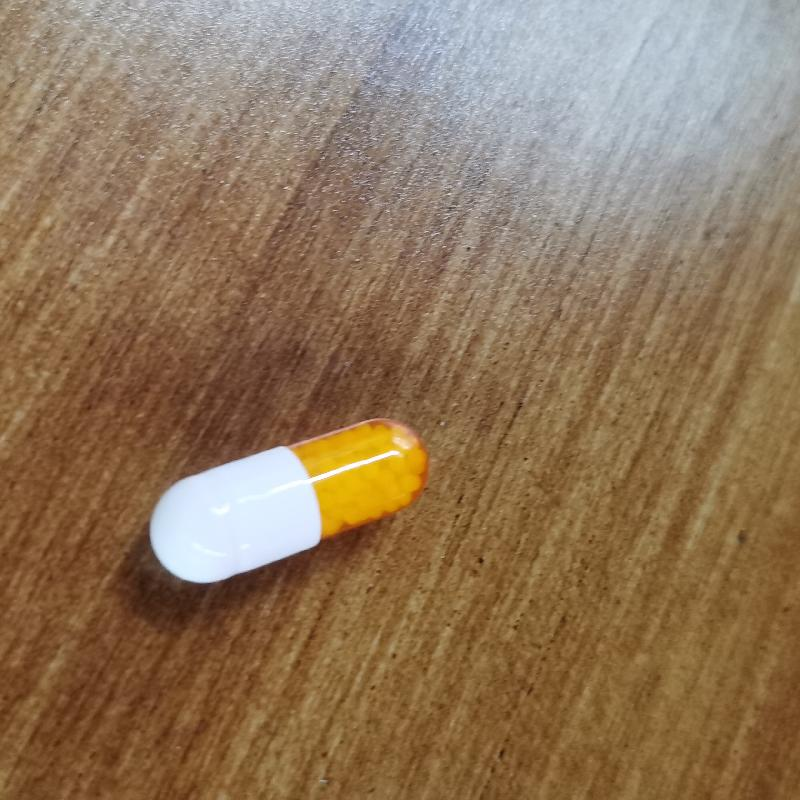pills: (137, 408, 451, 606)
